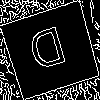D: (26, 25, 72, 80)
